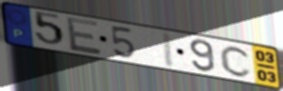5: (32, 10, 67, 50), (110, 24, 138, 60)
9: (188, 39, 217, 73)
C: (219, 44, 254, 78)
E: (64, 15, 104, 56)
I: (161, 31, 176, 69)
